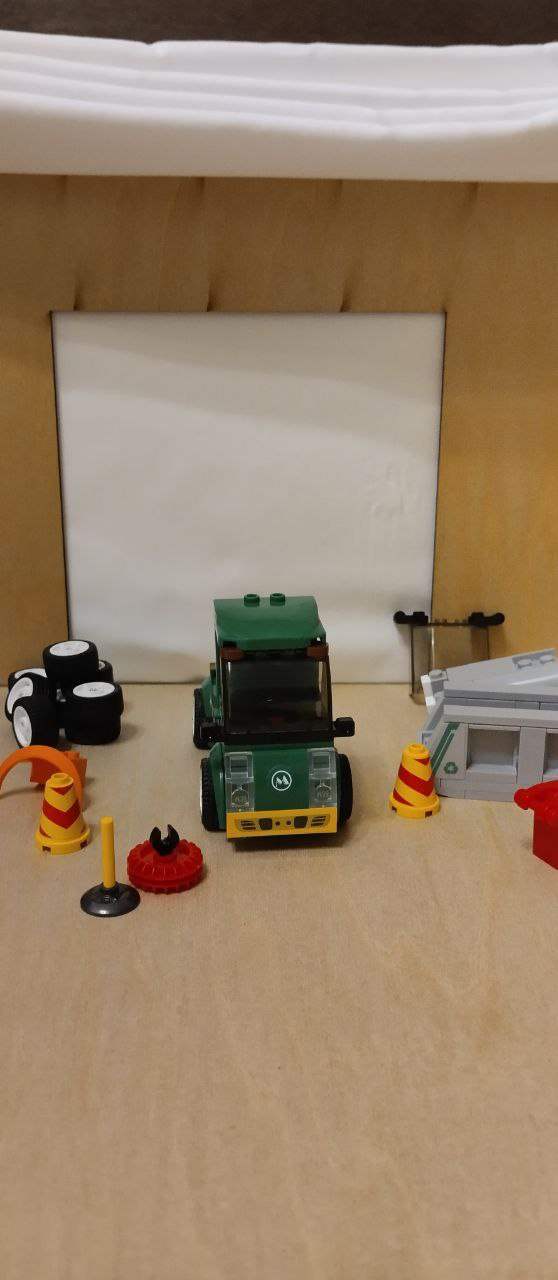Cone: (30, 765, 93, 854), (387, 735, 449, 819)
Object Red: (508, 777, 558, 873)
Truck: (188, 579, 368, 854)
